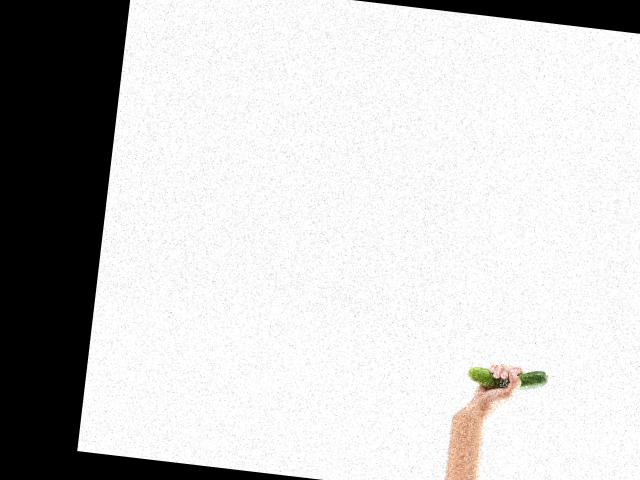cucumber: (467, 361, 548, 394)
